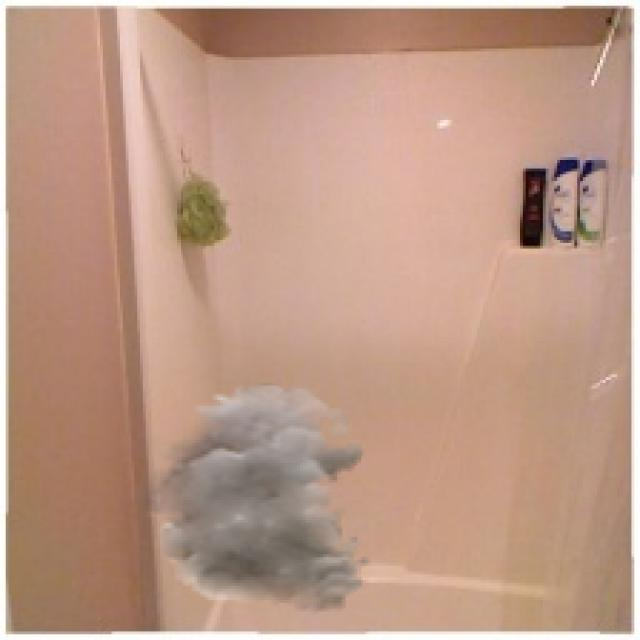smoke: (128, 383, 372, 614)
